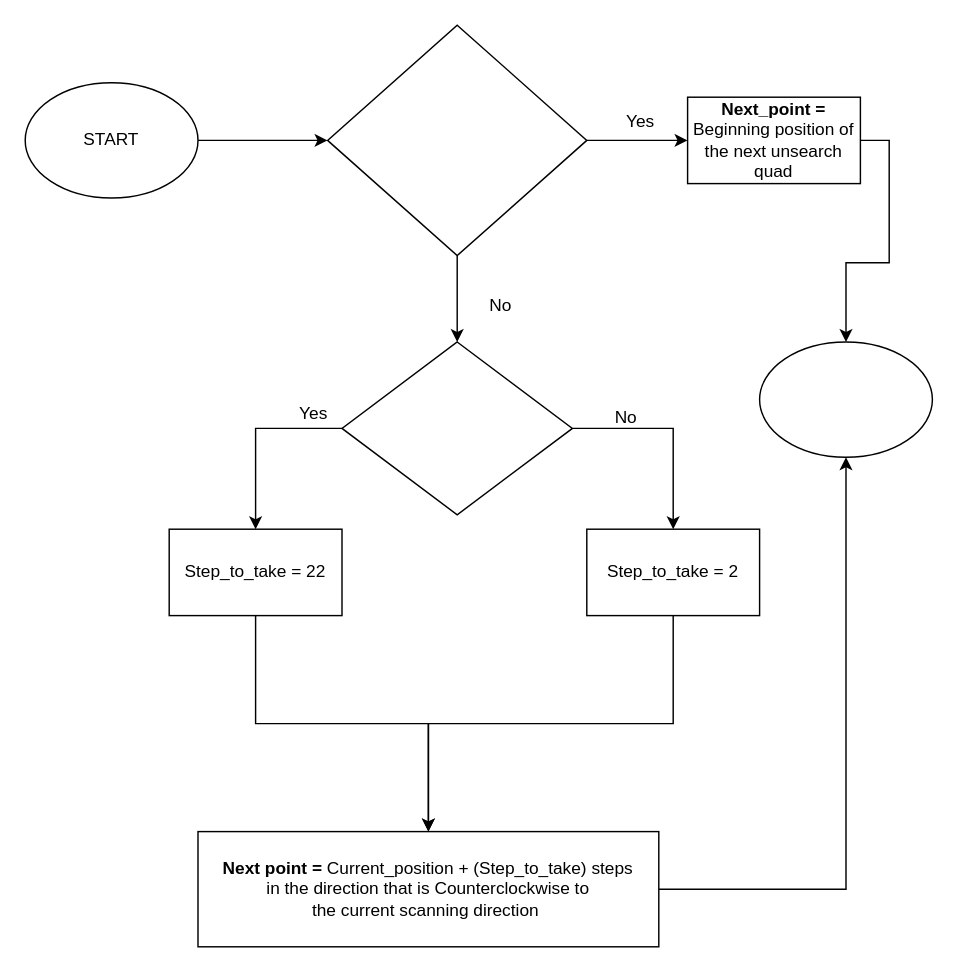
This 958x972 diagram has some shape labels left out. Here are the shapes that lost their labels. From the top down, the centre of each, then its label:
At (456,140): "If Robot is not currently in a quad terminal position?".
At (845,399): "END".
At (456,428): "If robot's current y is 7, 31, 77, or 101?".
